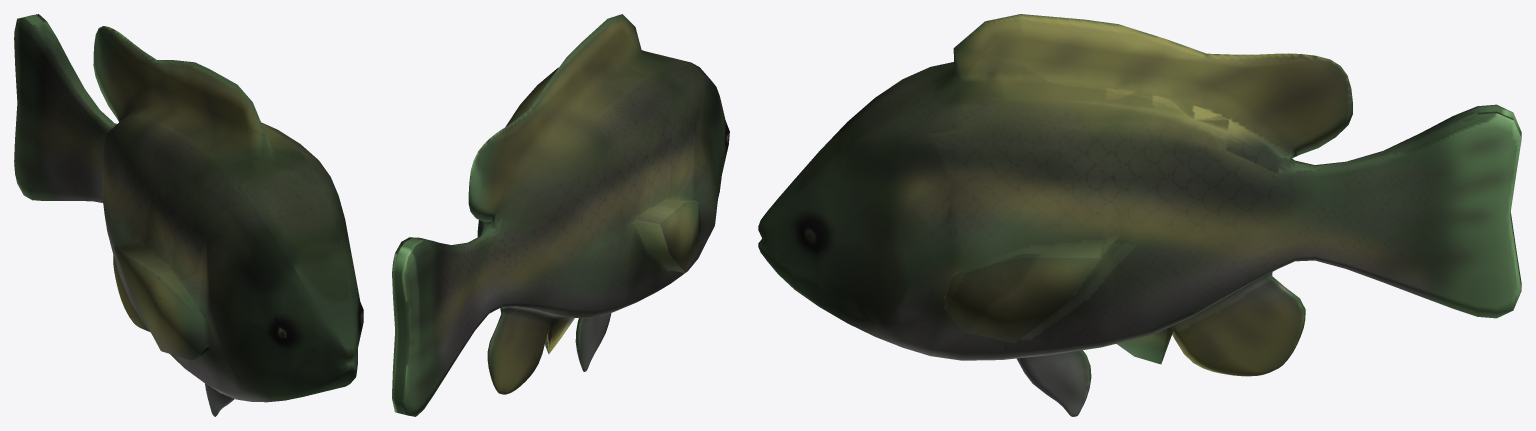
File: fish4.obj
The picture shows the model from 3 angles, left to right: view 1: azimuth 30°, elevation 25°; view 2: azimuth 150°, elevation 25°; view 3: azimuth 270°, elevation 25°; orthographic projection. The views are drawn at different scales.
Visible parts, largest first — view 1: Cube; view 2: Cube; view 3: Cube.
Boxes of the visible parts, x1,y1,x2,y2 form: Cube: (14, 14, 363, 416); Cube: (392, 14, 729, 416); Cube: (758, 14, 1521, 416).
Size of the model in its own units: 3.05 by 5.59 by 9.59.
